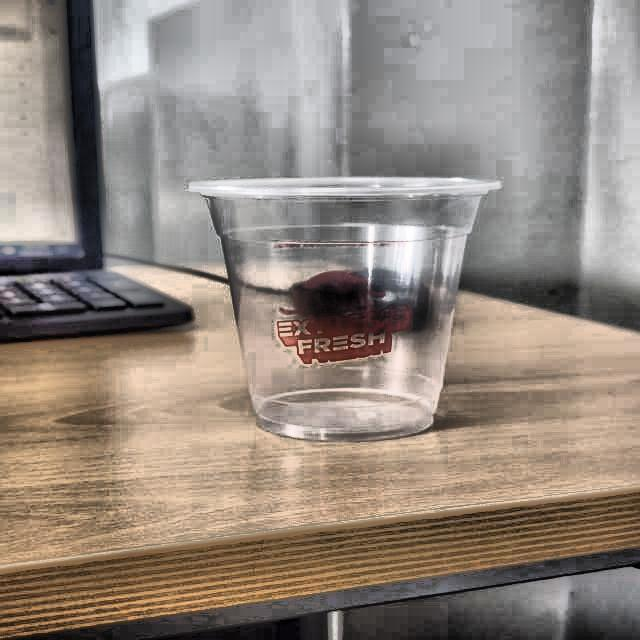plastic cup: (188, 175, 510, 441)
